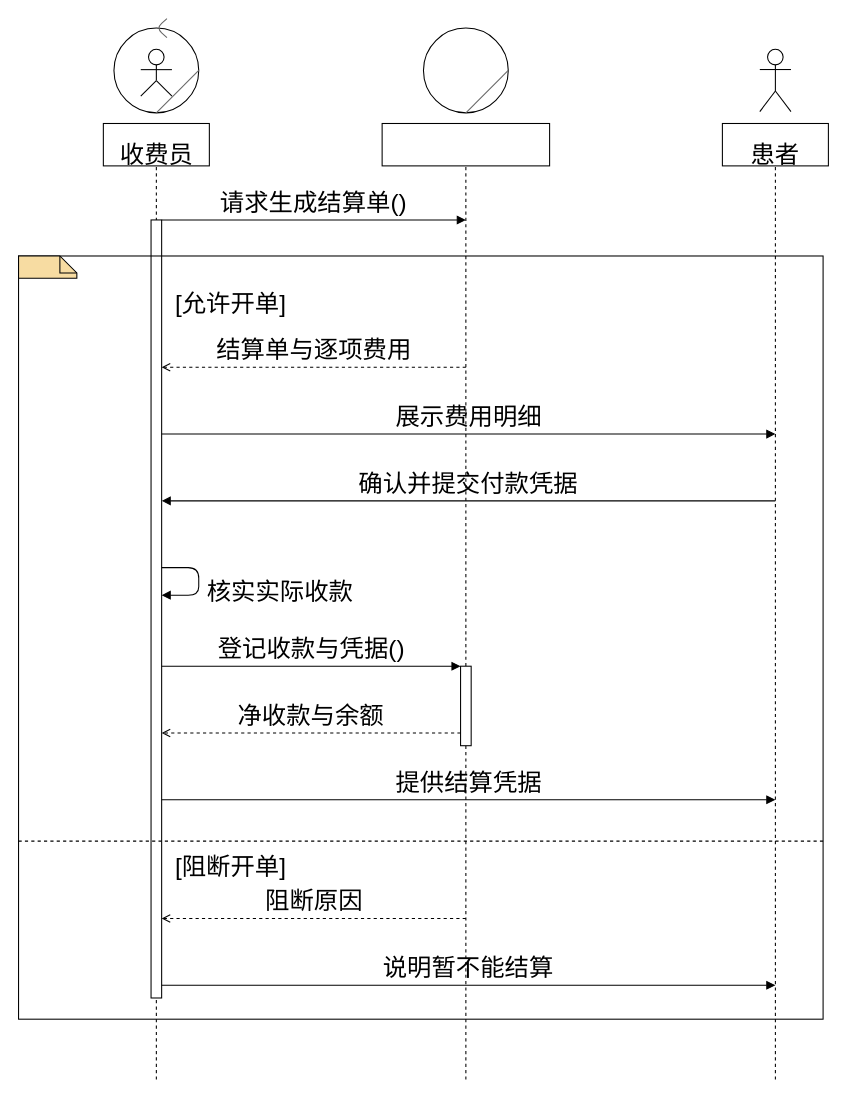
Some shapes in this 847 by 1101 pixel diagram are drawn without their labels. The centre of each missing label's shape, as x and y in pixels:
"alt" belongs at [47,266].
"诊疗管理系统" belongs at [465,144].
